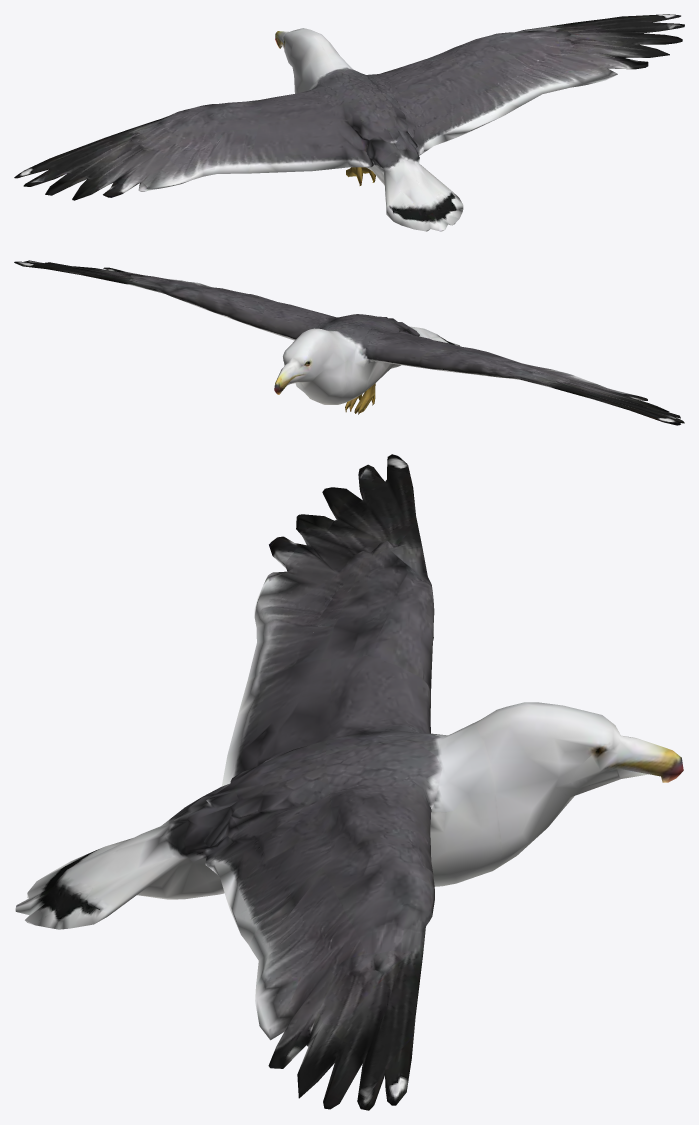
File: gull-fly-low.glb
3 views of the same model, one above another, from view 1: azimuth 30°, elevation 25°; view 2: azimuth 150°, elevation 25°; view 3: azimuth 270°, elevation 25° (orthographic). The views are drawn at different scales.
Parts seen in each view (by area): view 1: wingL-mesh, wingR-mesh, body-mesh; view 2: body-mesh, wingL-mesh, wingR-mesh; view 3: body-mesh, wingR-mesh, wingL-mesh.
Boxes of the visible parts, x1=… form: wingL-mesh: x1=14, y1=90, x2=362, y2=200; wingR-mesh: x1=378, y1=14, x2=684, y2=152; body-mesh: x1=275, y1=28, x2=463, y2=231; body-mesh: x1=274, y1=313, x2=460, y2=414; wingL-mesh: x1=371, y1=331, x2=684, y2=425; wingR-mesh: x1=14, y1=260, x2=335, y2=340; body-mesh: x1=15, y1=702, x2=683, y2=929; wingR-mesh: x1=212, y1=786, x2=434, y2=1110; wingL-mesh: x1=221, y1=454, x2=434, y2=786.
Bounding box in the file's own units: 1.1 × 0.1764 × 0.4788.
Materials: 1 (1 with a texture image).
